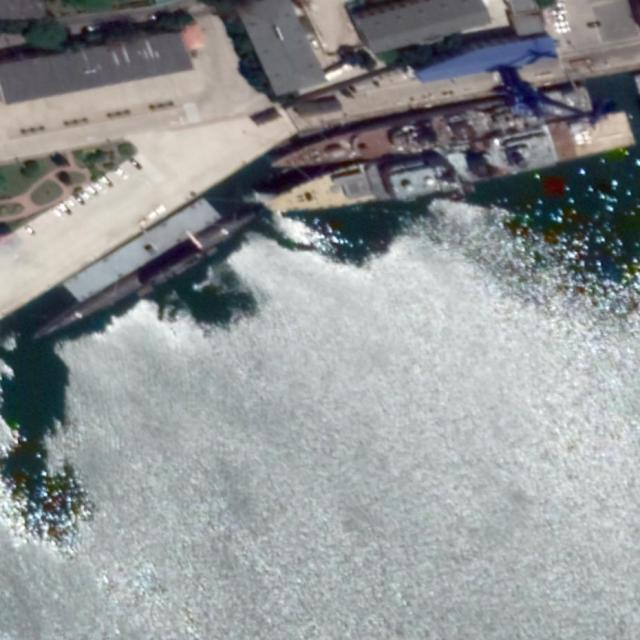Other Warship: (264, 109, 637, 224), (265, 84, 594, 178)
Submarine: (23, 197, 274, 351)
